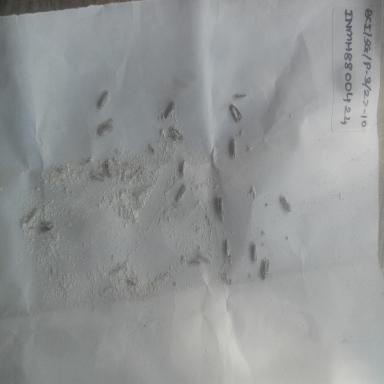pbw: (228, 102, 245, 127), (92, 88, 111, 109), (95, 119, 117, 137), (278, 192, 294, 214), (38, 218, 54, 238), (227, 136, 238, 164), (102, 157, 116, 179), (216, 195, 228, 220), (259, 257, 272, 280), (23, 207, 39, 225), (169, 125, 185, 142), (162, 101, 176, 120), (198, 252, 215, 265), (252, 242, 260, 268), (90, 171, 106, 183), (175, 186, 187, 201), (179, 160, 188, 178), (186, 258, 202, 268), (223, 238, 232, 255)
